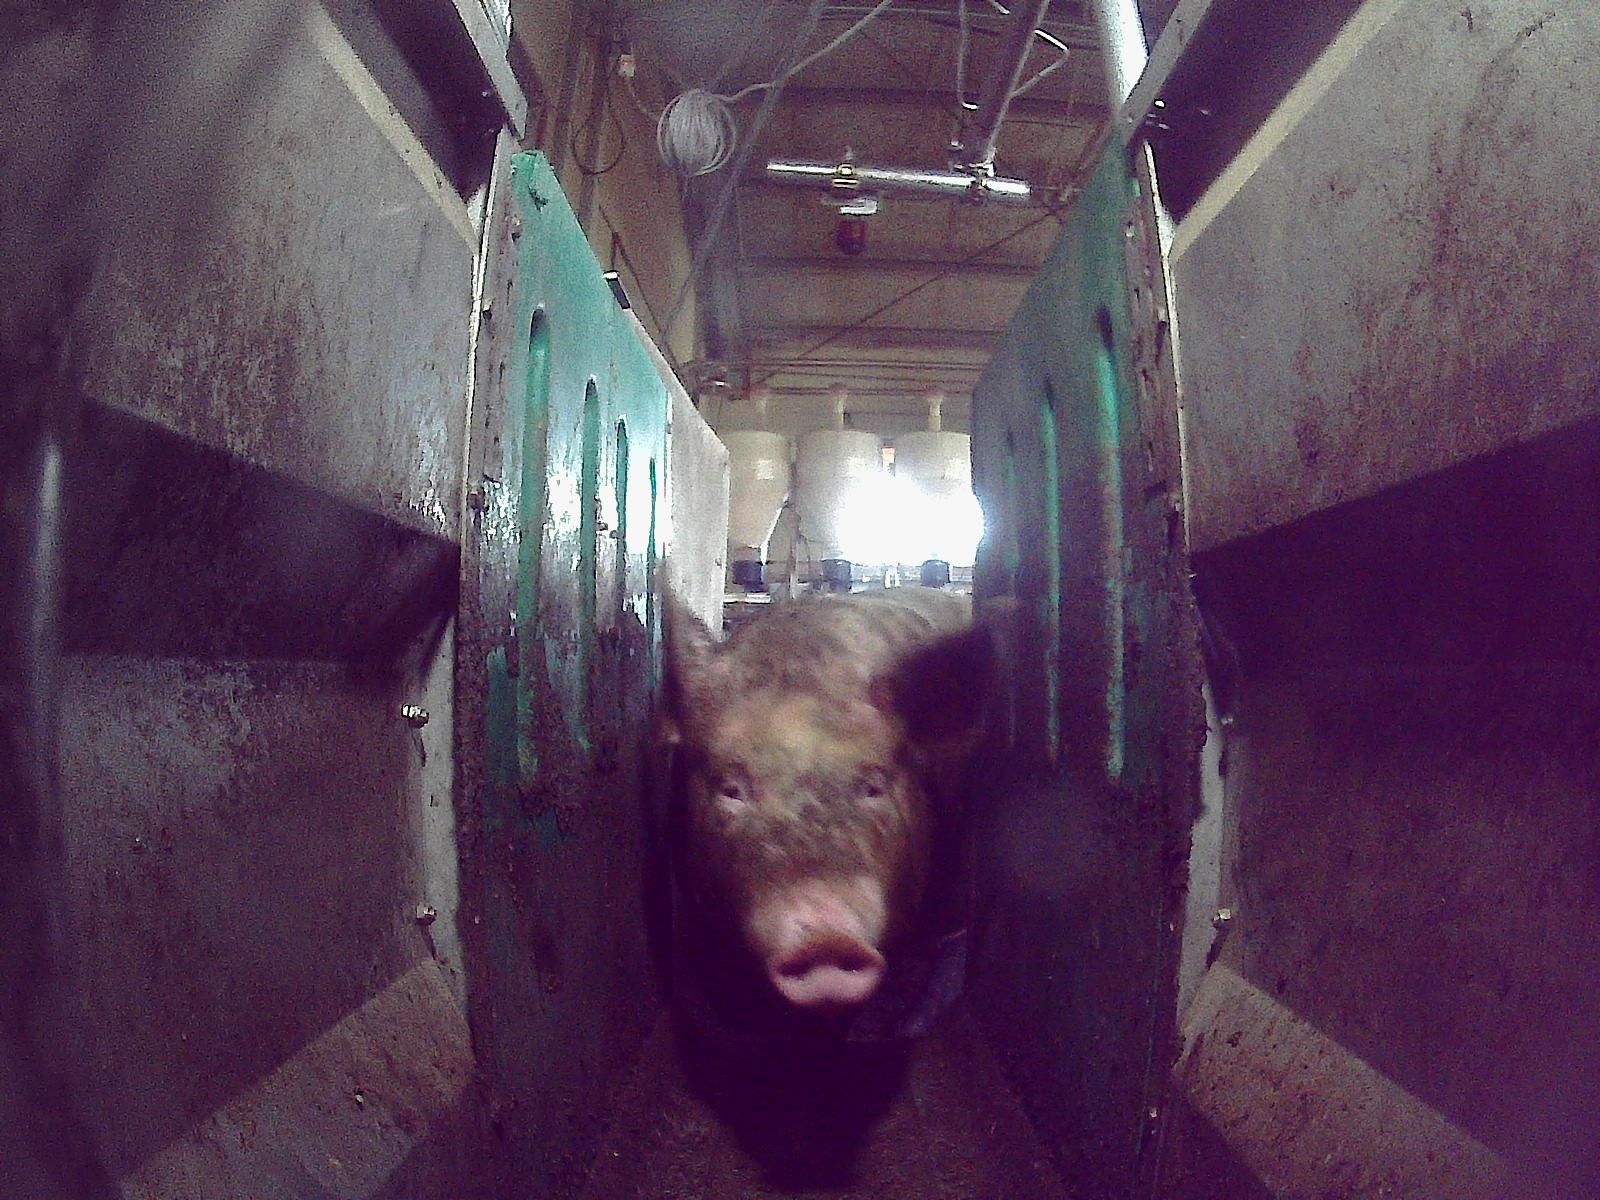Face: (688, 692, 917, 1012)
